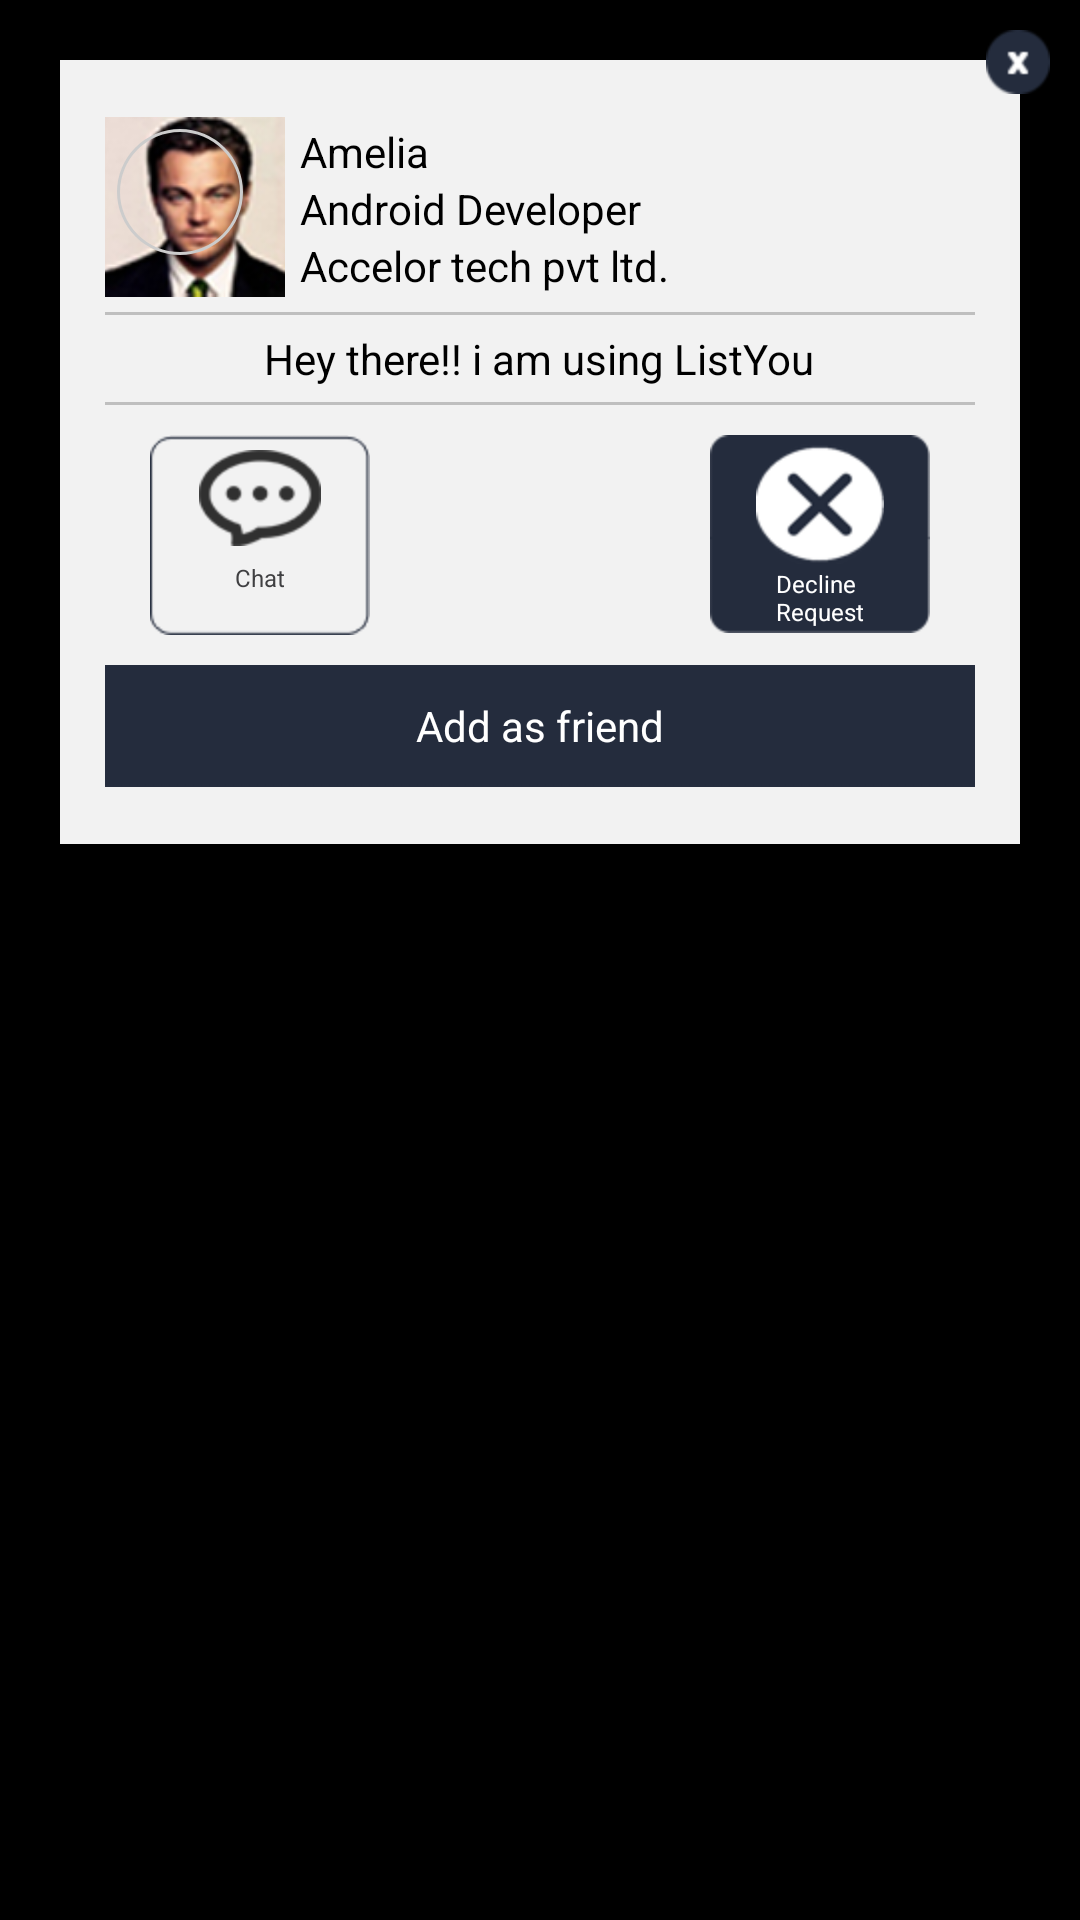

Named icons in this screenshot (1080*1920) and their bounding boxes, (x1, y1, x2, y2):
cross: (986, 30, 1050, 94)
user profile pic: (105, 117, 285, 297)
